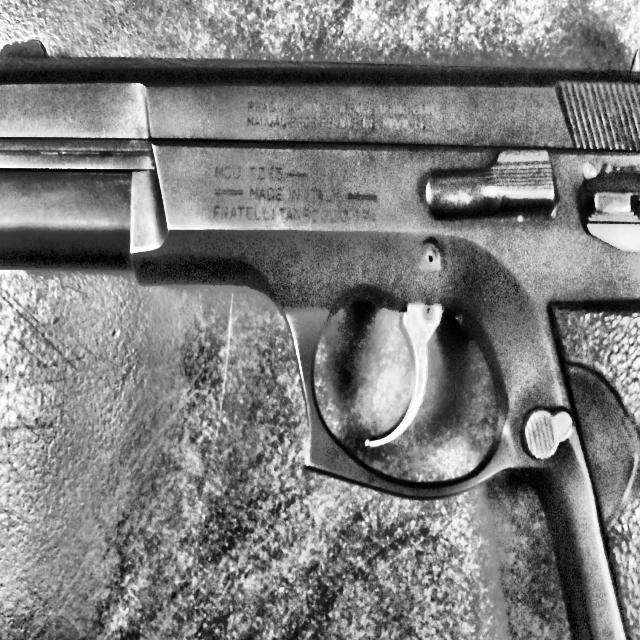Tanfoglio: (0, 23, 640, 640)
